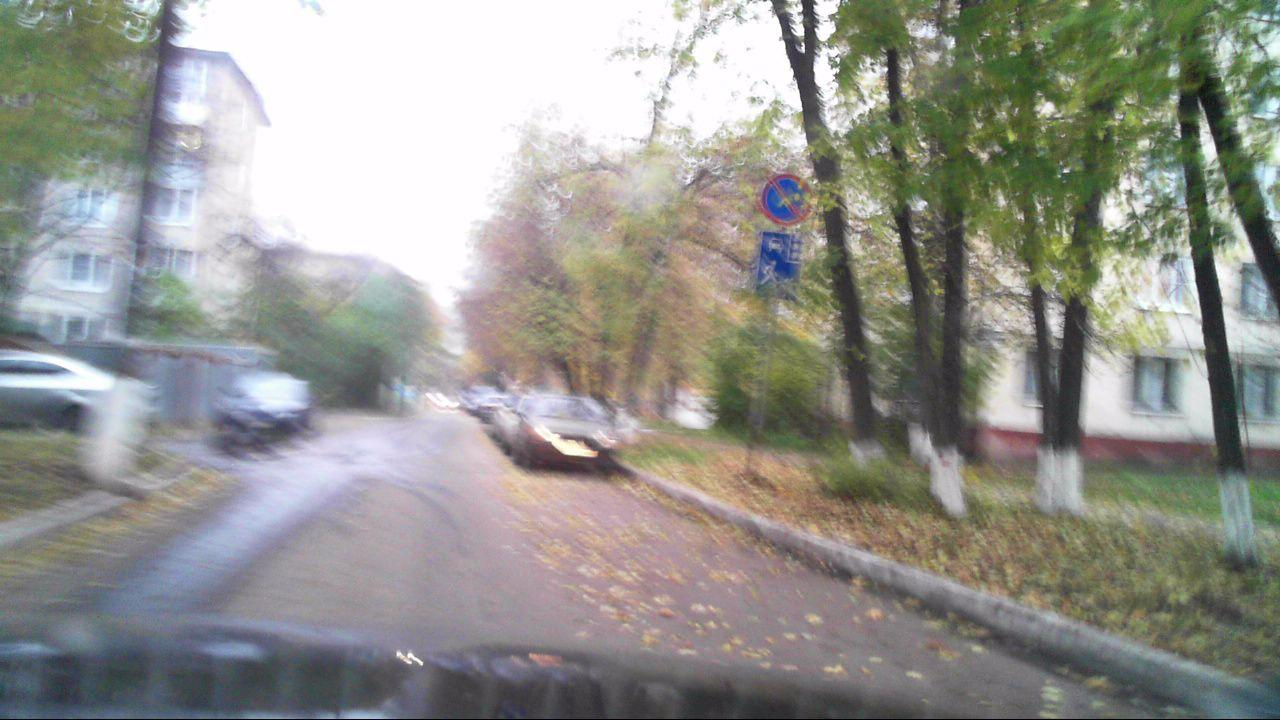3_28: (761, 174, 811, 227)
5_21: (756, 229, 807, 301)
